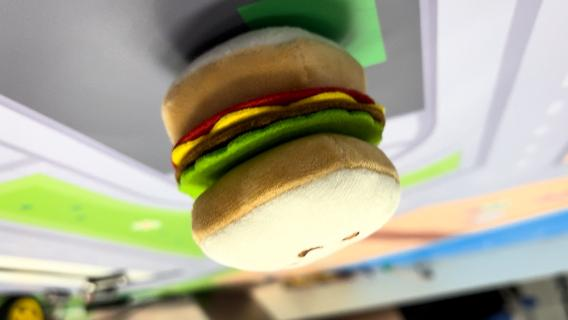sandwich: (158, 26, 404, 272)
